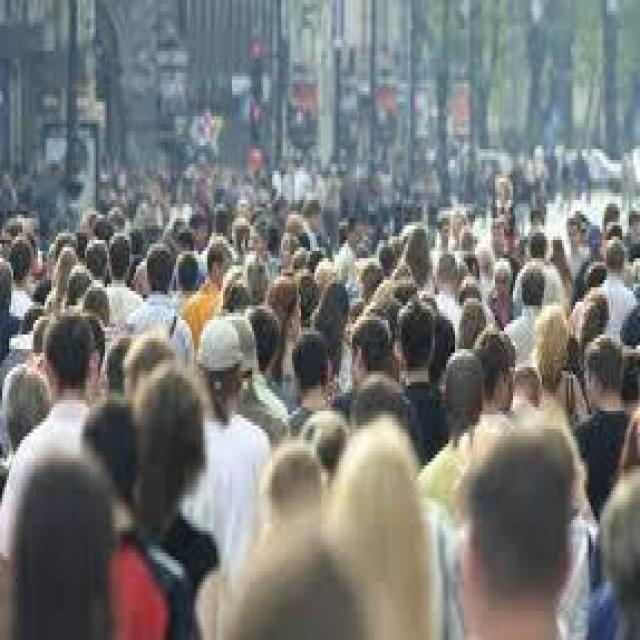person: (460, 396, 578, 636), (7, 418, 122, 636), (346, 404, 450, 622), (65, 353, 154, 556), (131, 349, 212, 556), (256, 429, 337, 546), (190, 309, 252, 426), (31, 309, 107, 400), (575, 316, 627, 433), (2, 349, 60, 451), (524, 273, 569, 400), (394, 280, 442, 389), (292, 320, 346, 407), (435, 338, 479, 444), (263, 258, 310, 346), (354, 302, 394, 389), (484, 248, 524, 328), (145, 236, 183, 313), (341, 211, 379, 273), (56, 251, 94, 309), (105, 214, 132, 294), (357, 247, 392, 302), (520, 218, 553, 276), (14, 222, 41, 291), (203, 236, 236, 288), (286, 200, 314, 255), (426, 196, 455, 248), (556, 211, 586, 258), (482, 218, 506, 262), (495, 167, 513, 222), (248, 214, 266, 243)
